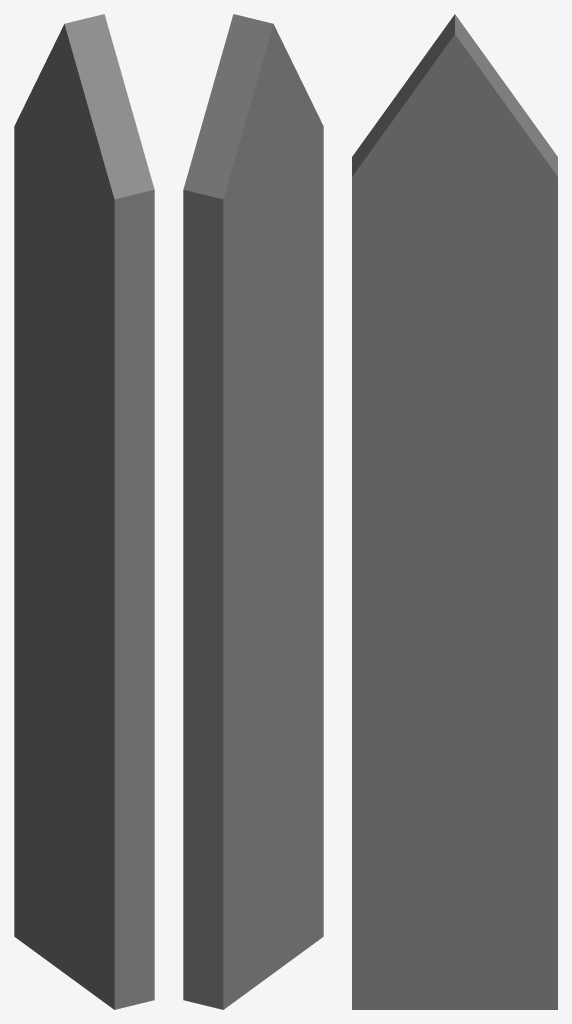
Rendered from FencePicketWhiteEnd_01.glb.
The picture shows the model from 3 angles, left to right: view 1: azimuth 30°, elevation 25°; view 2: azimuth 150°, elevation 25°; view 3: azimuth 270°, elevation 25°; orthographic projection. The views are drawn at different scales.
Visible parts, largest first — view 1: FencePicketWhiteEnd_01; view 2: FencePicketWhiteEnd_01; view 3: FencePicketWhiteEnd_01.
Part boxes in pixels (x1=…): FencePicketWhiteEnd_01: x1=14, y1=14, x2=154, y2=1009; FencePicketWhiteEnd_01: x1=183, y1=14, x2=323, y2=1009; FencePicketWhiteEnd_01: x1=352, y1=14, x2=557, y2=1009.
Size of what is drawn, in the model's own units: 0.0534 by 1.21 by 0.2309.
1 material, 1 textured.
